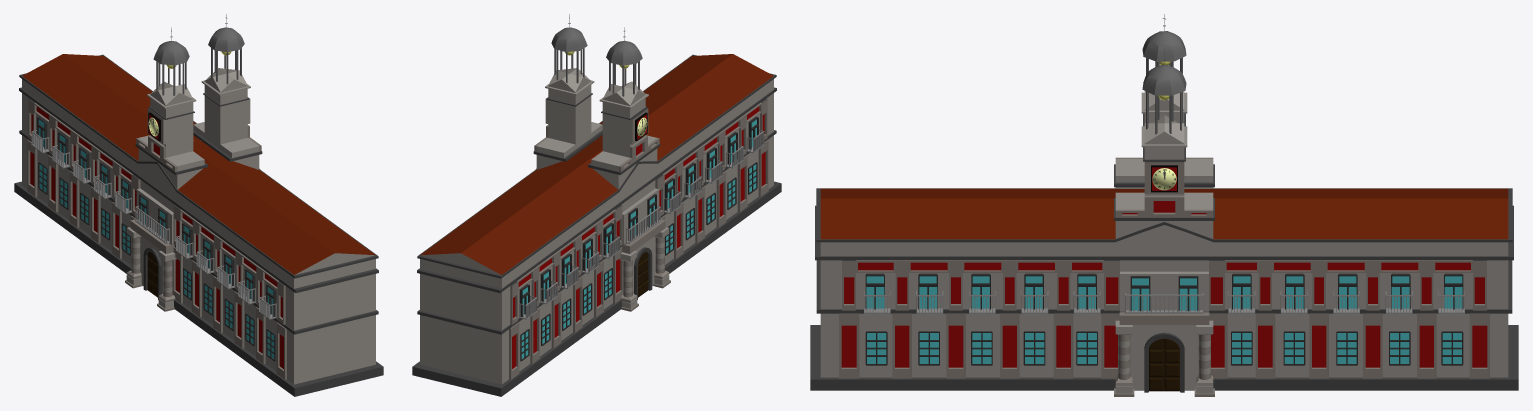
File: PuertaSol.fbx
3 renders of one model, left to right at view 1: azimuth 30°, elevation 25°; view 2: azimuth 150°, elevation 25°; view 3: azimuth 270°, elevation 25°, orthographic. The views are drawn at different scales.
Visible parts, largest first — view 1: Edificio, Cube, VentanaAbajo, Balcon.001, VentanaTop, Circle, Alcala.002, Balcon.002, VentanaTop.001, Puerta, Puerta.001; view 2: Edificio, Cube, VentanaAbajo, Balcon.001, VentanaTop, Circle, Alcala.002, Balcon.002, VentanaTop.001, Puerta, Puerta.001; view 3: Edificio, Cube, VentanaAbajo, VentanaTop, Balcon.001, Circle, Alcala.002, Puerta, VentanaTop.001, Balcon.002, Puerta.001.
Boxes of the visible parts, box(x1,y1,x2,y2) form: Edificio: box(19, 54, 378, 384); Cube: box(14, 181, 383, 396); VentanaAbajo: box(38, 162, 275, 361); Balcon.001: box(31, 130, 276, 319); VentanaTop: box(37, 116, 276, 316); Circle: box(153, 14, 244, 95); Alcala.002: box(125, 227, 176, 311); Balcon.002: box(135, 206, 169, 243); VentanaTop.001: box(139, 194, 167, 240); Puerta: box(147, 252, 157, 297); Puerta.001: box(143, 247, 161, 299); Edificio: box(417, 54, 776, 384); Cube: box(412, 181, 781, 396); VentanaAbajo: box(520, 162, 757, 361); Balcon.001: box(519, 130, 764, 319); VentanaTop: box(519, 116, 758, 316); Circle: box(551, 14, 642, 96); Alcala.002: box(619, 227, 670, 311); Balcon.002: box(626, 206, 660, 243); VentanaTop.001: box(628, 194, 656, 240); Puerta: box(638, 252, 648, 297); Puerta.001: box(634, 247, 652, 299); Edificio: box(815, 91, 1513, 390); Cube: box(810, 325, 1518, 390); VentanaAbajo: box(865, 331, 1463, 365); VentanaTop: box(865, 273, 1463, 309); Balcon.001: box(864, 291, 1464, 313); Circle: box(1142, 14, 1186, 134); Alcala.002: box(1114, 320, 1214, 396); Puerta: box(1149, 338, 1179, 391); VentanaTop.001: box(1130, 276, 1198, 311); Balcon.002: box(1125, 293, 1203, 313); Puerta.001: box(1144, 332, 1184, 392).
Bounding box in the file's own units: 2640 × 6143 × 11851.
